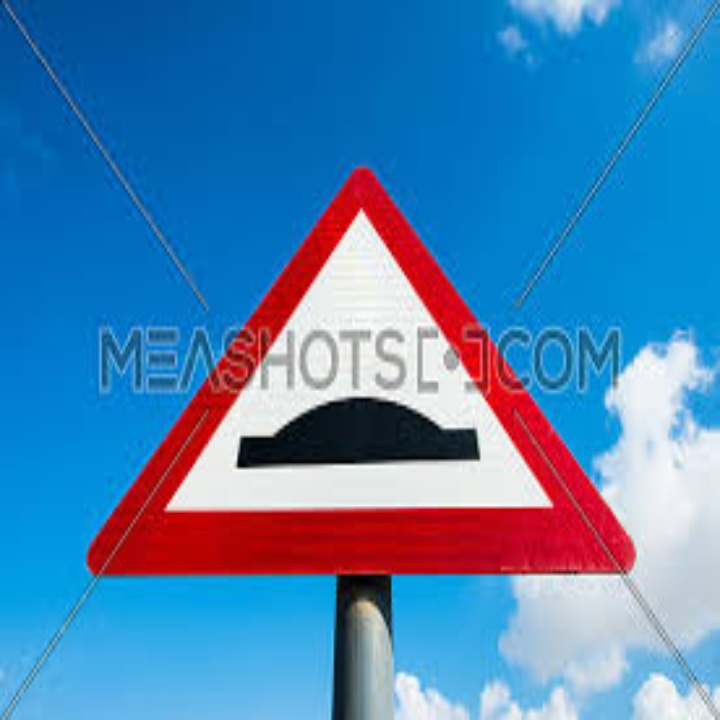bump: (82, 169, 637, 580)
